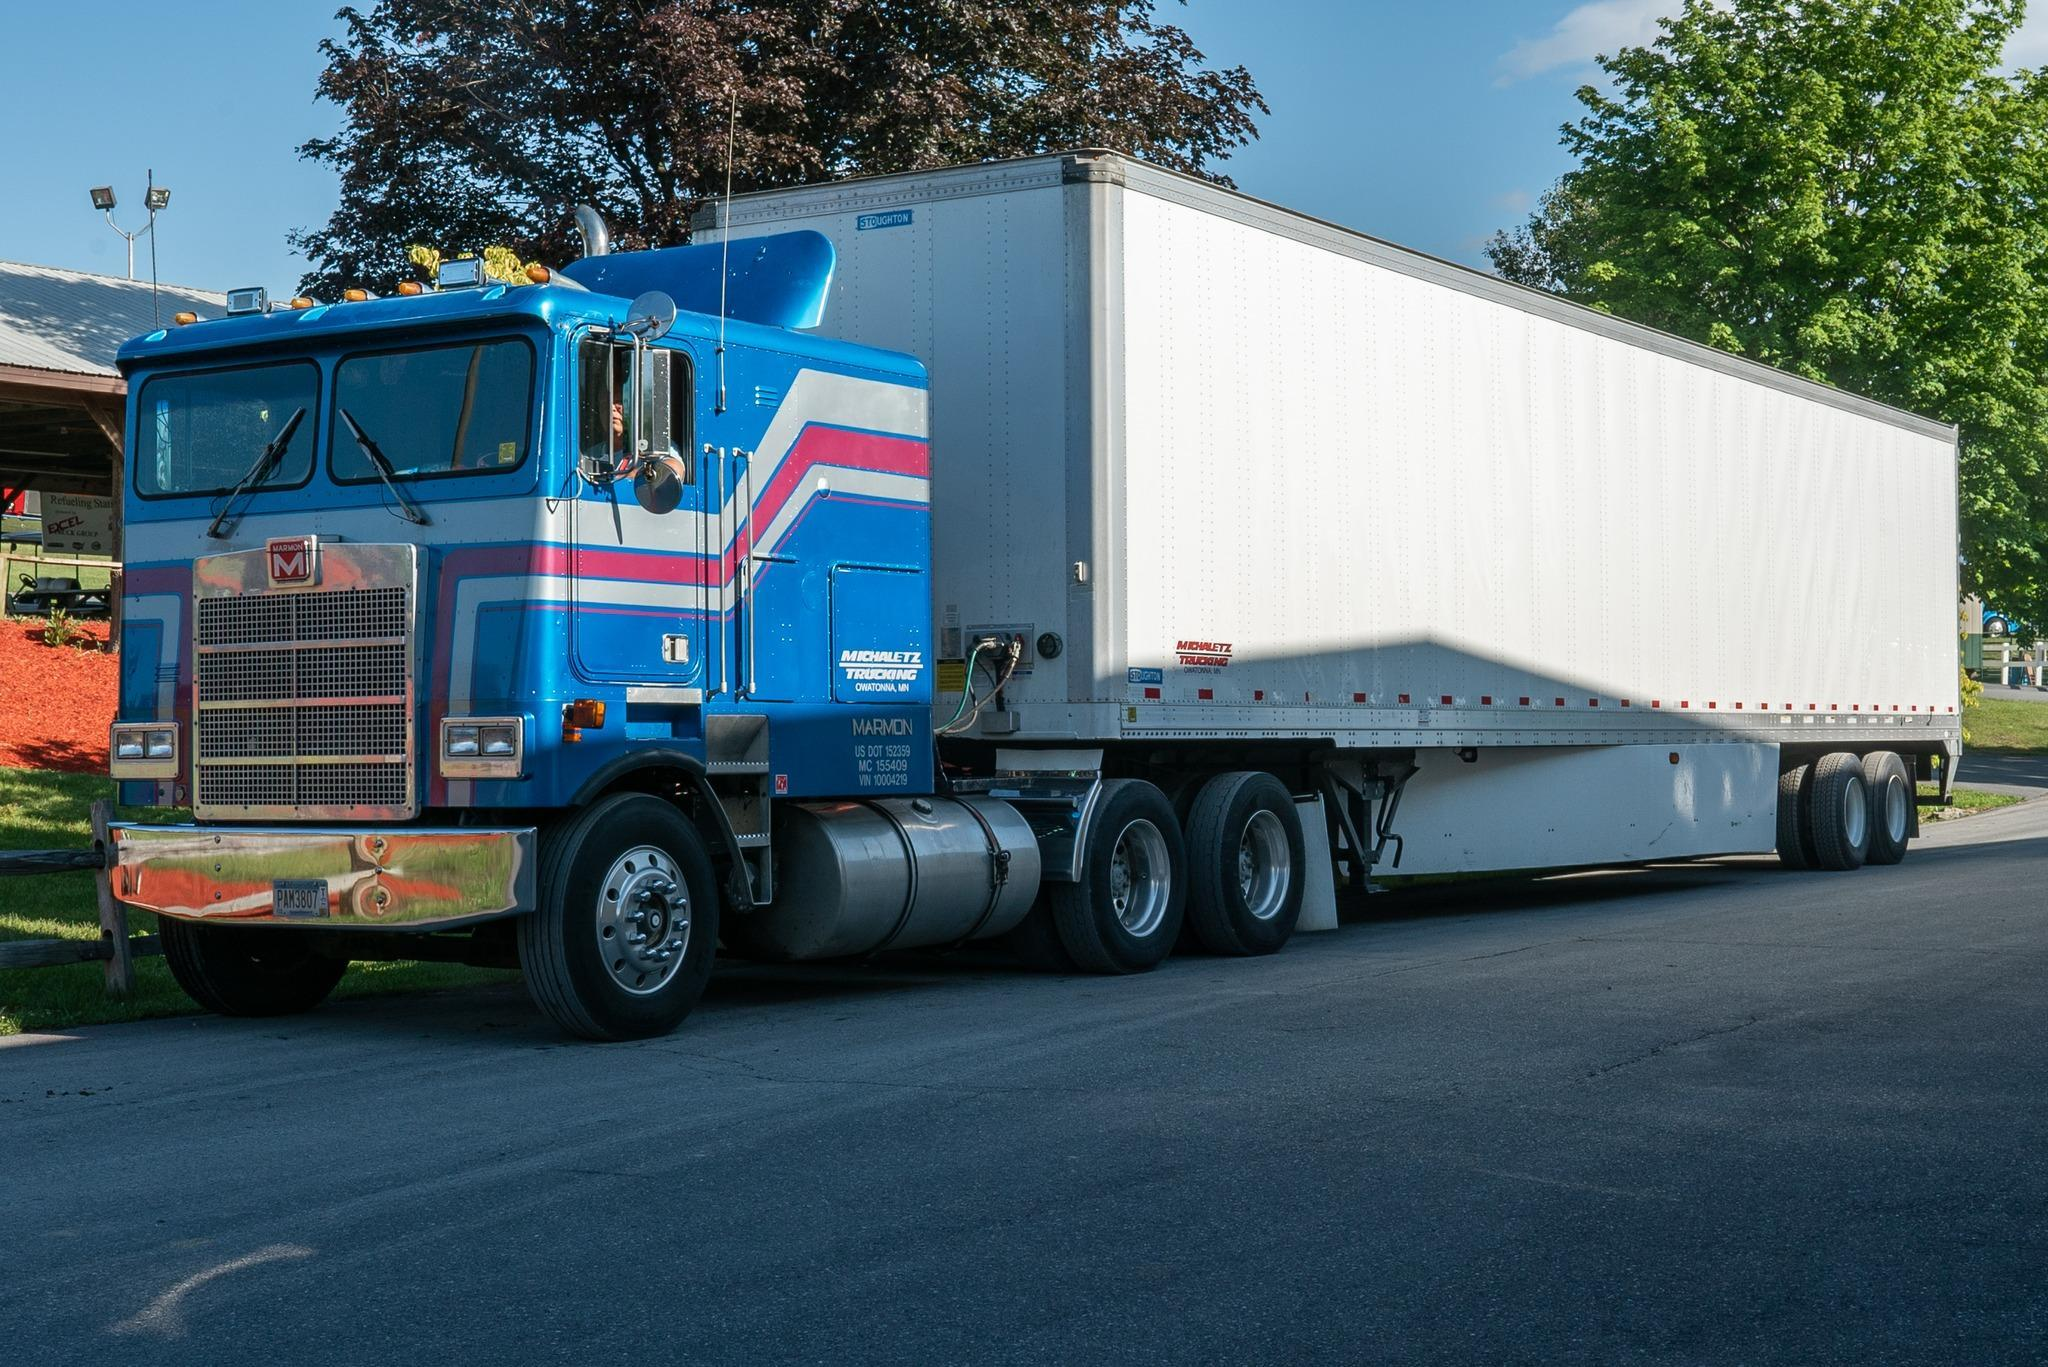truck: (108, 148, 1960, 1047)
